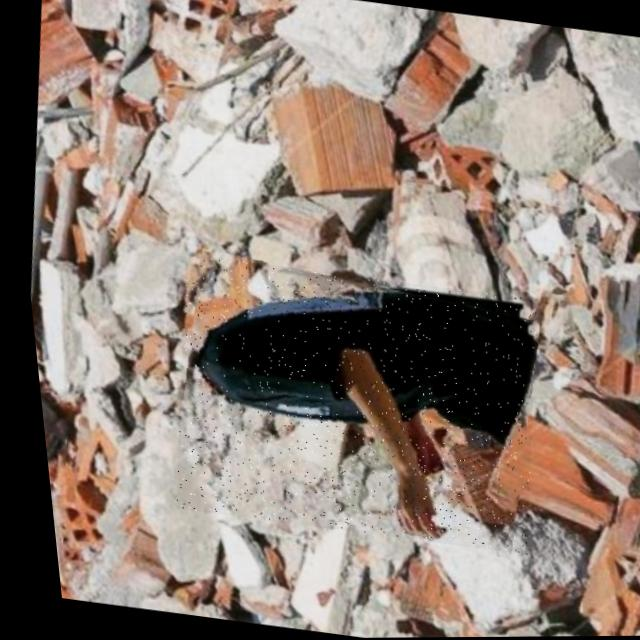Person in Rubble: (145, 251, 550, 556)
